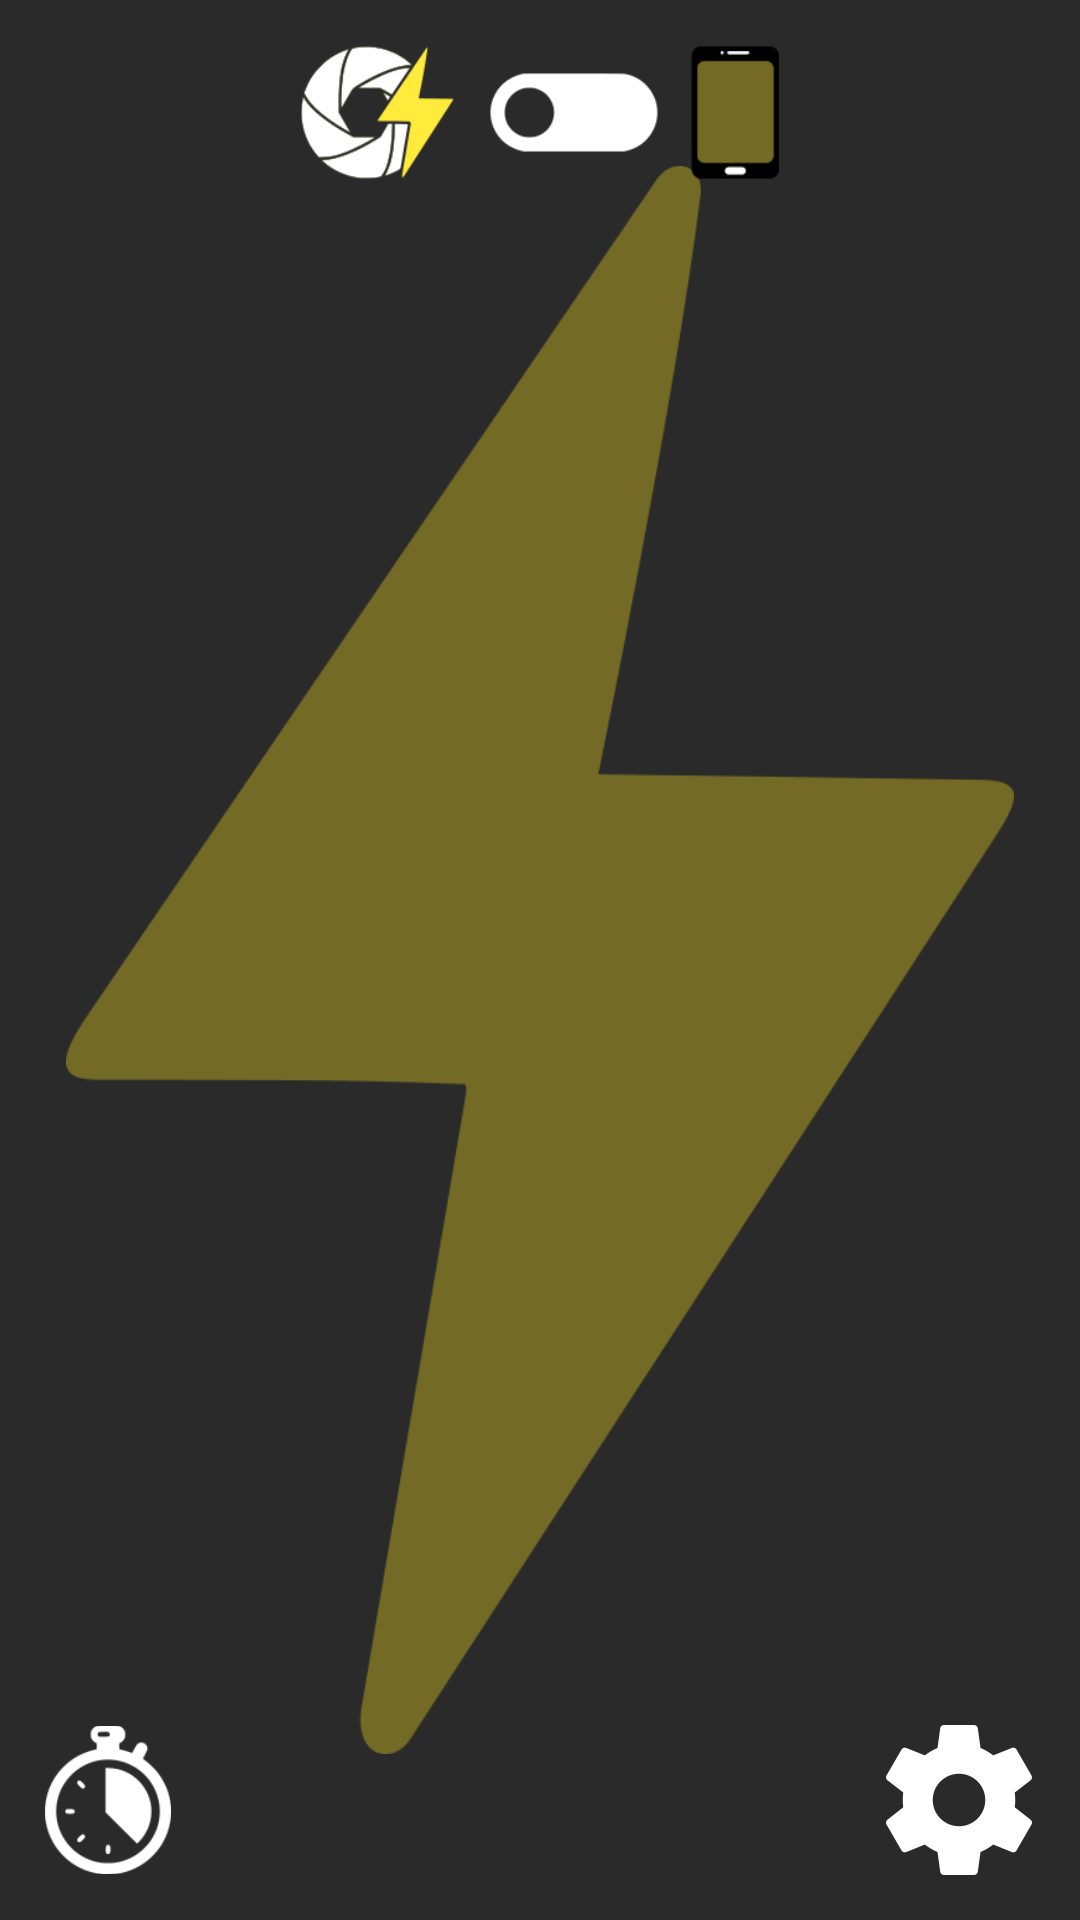

Where to tap for icons on this 1080px x 1920px app screen, as (x=x, y=y):
config: (x=959, y=1800)
switch flash on: (x=479, y=112)
timer: (x=108, y=1800)
